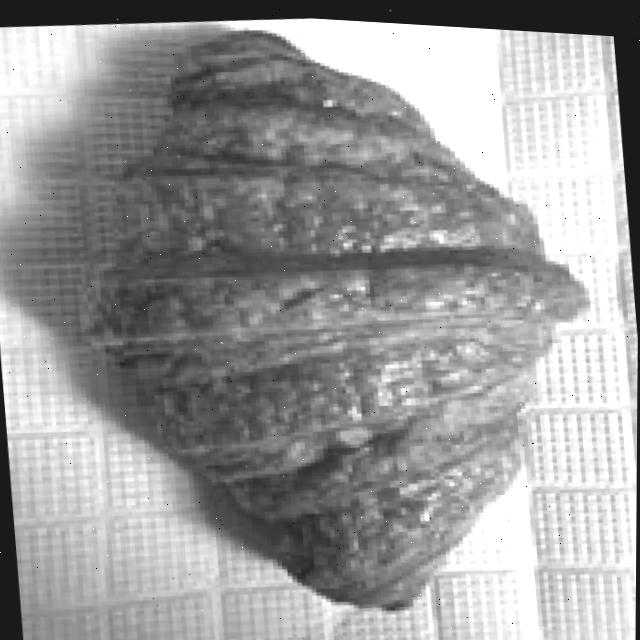面包点心: (48, 2, 630, 640)
